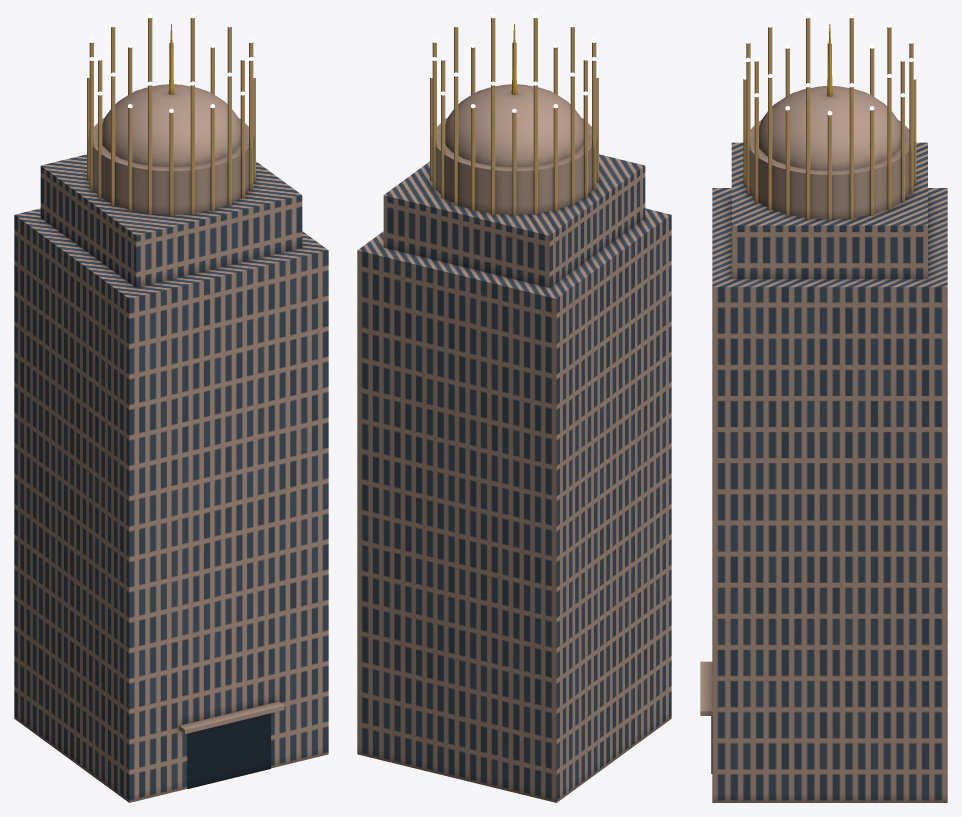
The model's file is torre_corona.glb.
3 renders of one model, left to right at view 1: azimuth 30°, elevation 25°; view 2: azimuth 150°, elevation 25°; view 3: azimuth 270°, elevation 25°, orthographic. The views are drawn at different scales.
Parts seen in each view (by area): view 1: torre_corona; view 2: torre_corona; view 3: torre_corona.
Part boxes in pixels (x1,y1,x2,y2): torre_corona: (14,14,328,802); torre_corona: (357,14,671,802); torre_corona: (700,14,947,802).
Bounding box in the file's own units: 24 × 82 × 25.2.
1 material, 1 textured.
